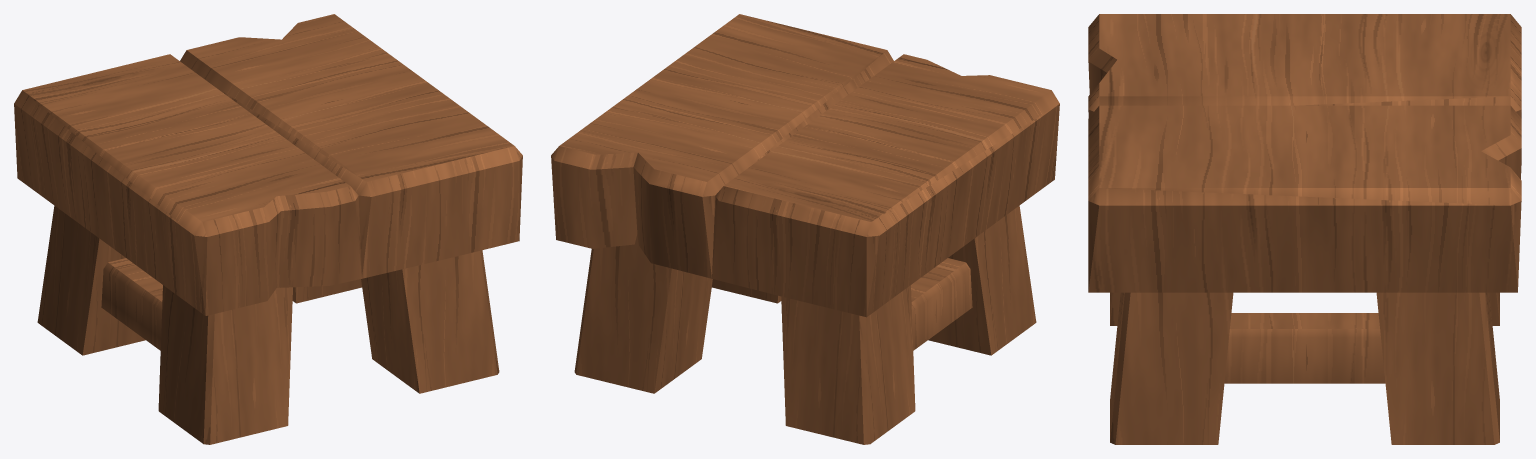
The model's file is stool.gltf.
The picture shows the model from 3 angles, left to right: view 1: azimuth 30°, elevation 25°; view 2: azimuth 150°, elevation 25°; view 3: azimuth 270°, elevation 25°; orthographic projection. The views are drawn at different scales.
Parts seen in each view (by area): view 1: stool; view 2: stool; view 3: stool.
Part boxes in pixels (bbox=[...]): stool: bbox=[14, 14, 522, 444]; stool: bbox=[551, 14, 1059, 444]; stool: bbox=[1088, 14, 1521, 444].
Size of the model in its own units: 0.75 by 0.5 by 0.75.
3 materials, 3 textured.
